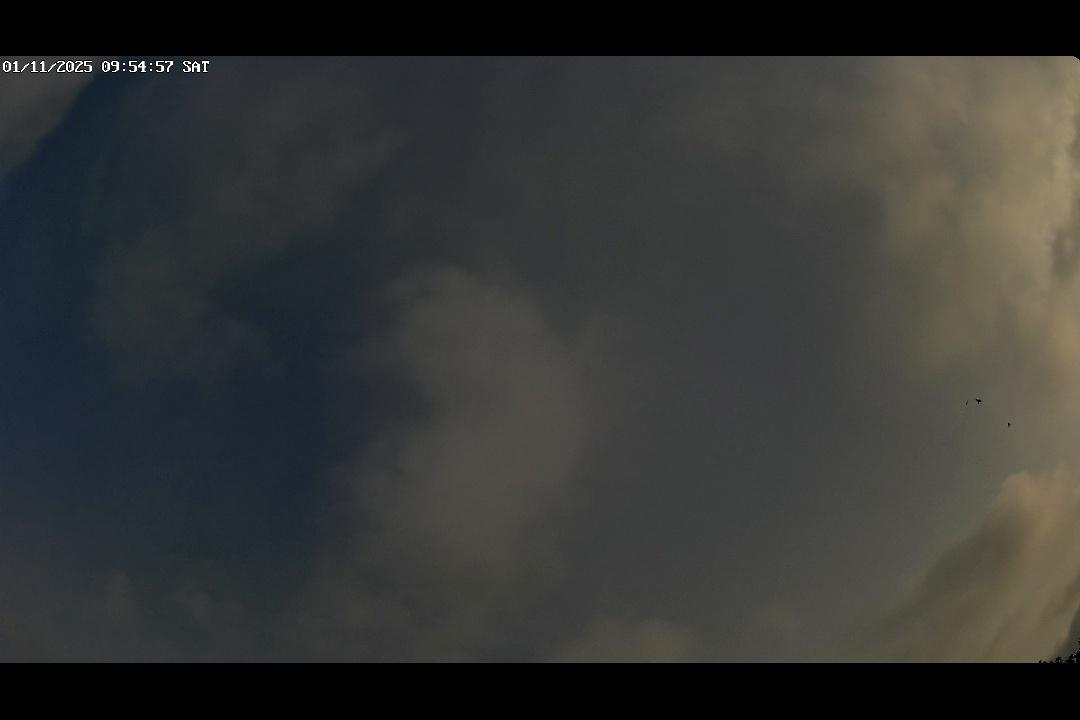WildLife: (966, 395, 991, 407), (997, 419, 1017, 430)
